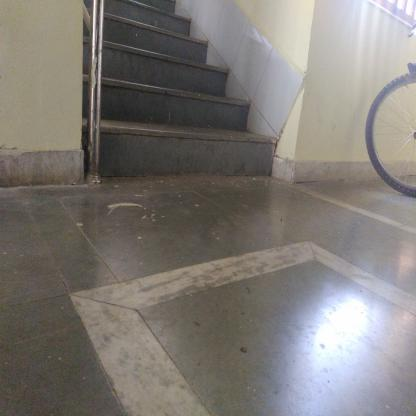stairs: (105, 37, 207, 188)
